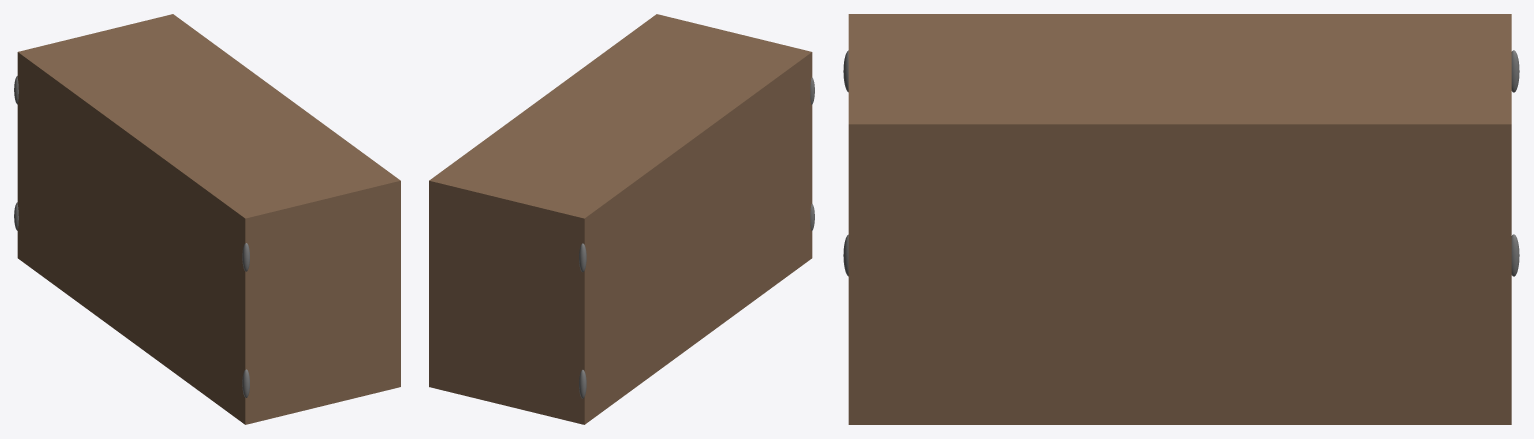
The model's file is cabinet.fbx.
3 views of the same model, side by side, from view 1: azimuth 30°, elevation 25°; view 2: azimuth 150°, elevation 25°; view 3: azimuth 270°, elevation 25° (orthographic). The views are drawn at different scales.
Visible parts, largest first — view 1: pCube1; view 2: pCube1; view 3: pCube1.
Boxes of the visible parts, x1,y1,x2,y2 form: pCube1: (17,14,400,424); pCube1: (429,14,812,424); pCube1: (848,14,1511,424).
Bounding box in the file's own units: 24.01 × 30 × 61.16.
